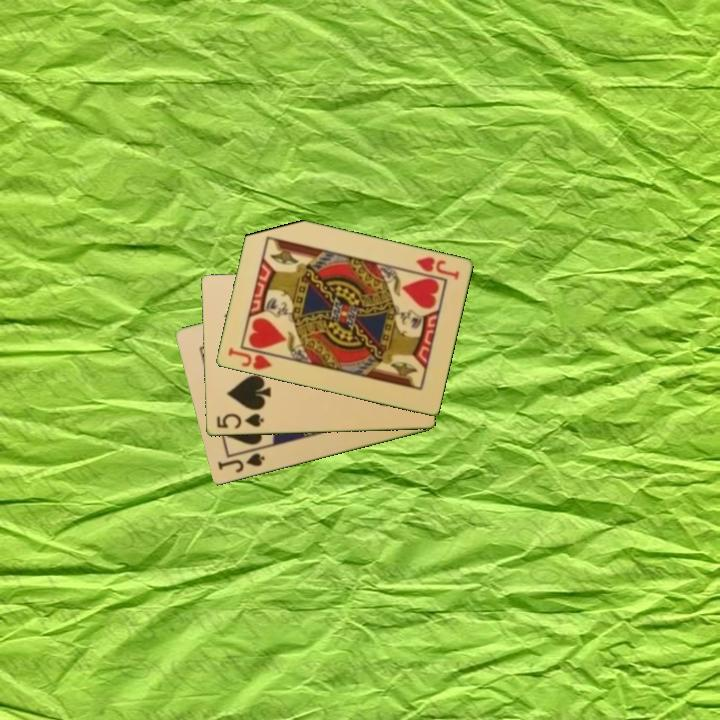5s: (213, 410, 266, 432)
Jh: (224, 344, 280, 373), (412, 253, 462, 283)
Js: (214, 450, 268, 476)
